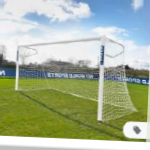goals: (13, 34, 141, 120)
